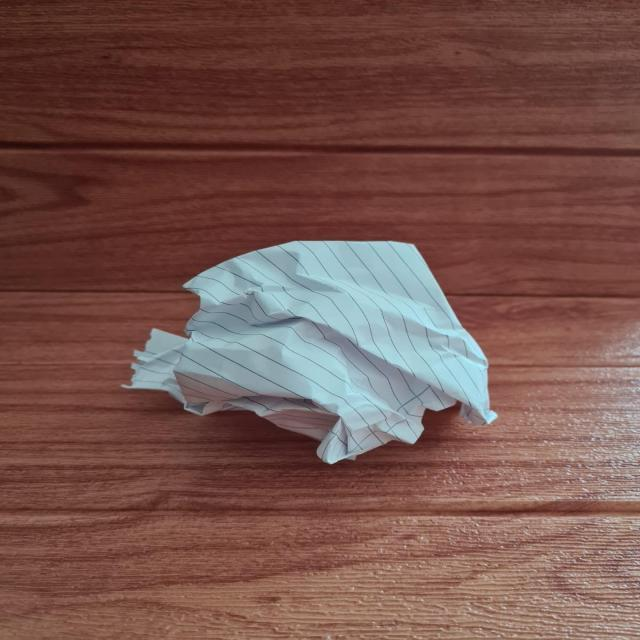cardboard paper: (127, 240, 494, 461)
